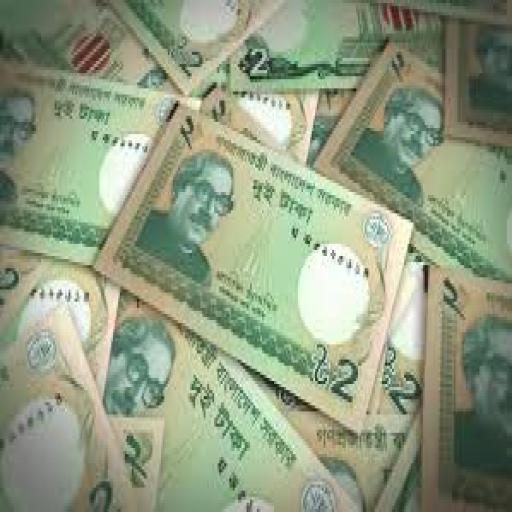2taka: (94, 107, 411, 427), (0, 61, 173, 262)
